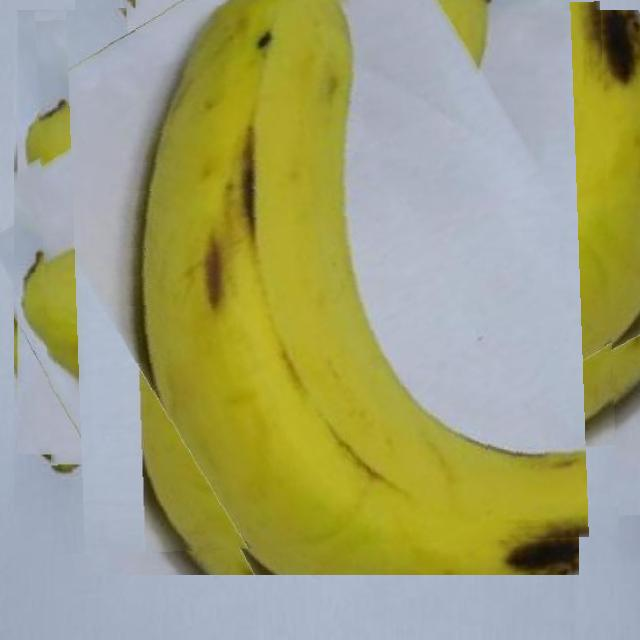Madura: (39, 0, 613, 549)
